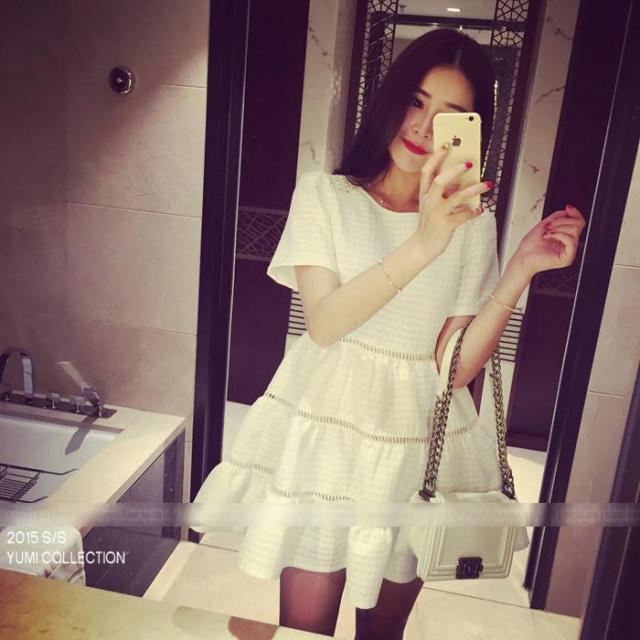short sleeve dress: (186, 168, 526, 608)
